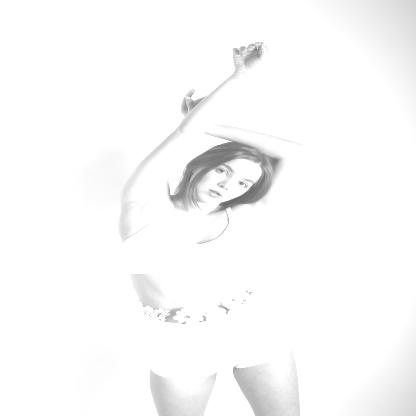jacket: (133, 305, 303, 382), (116, 202, 260, 280)
